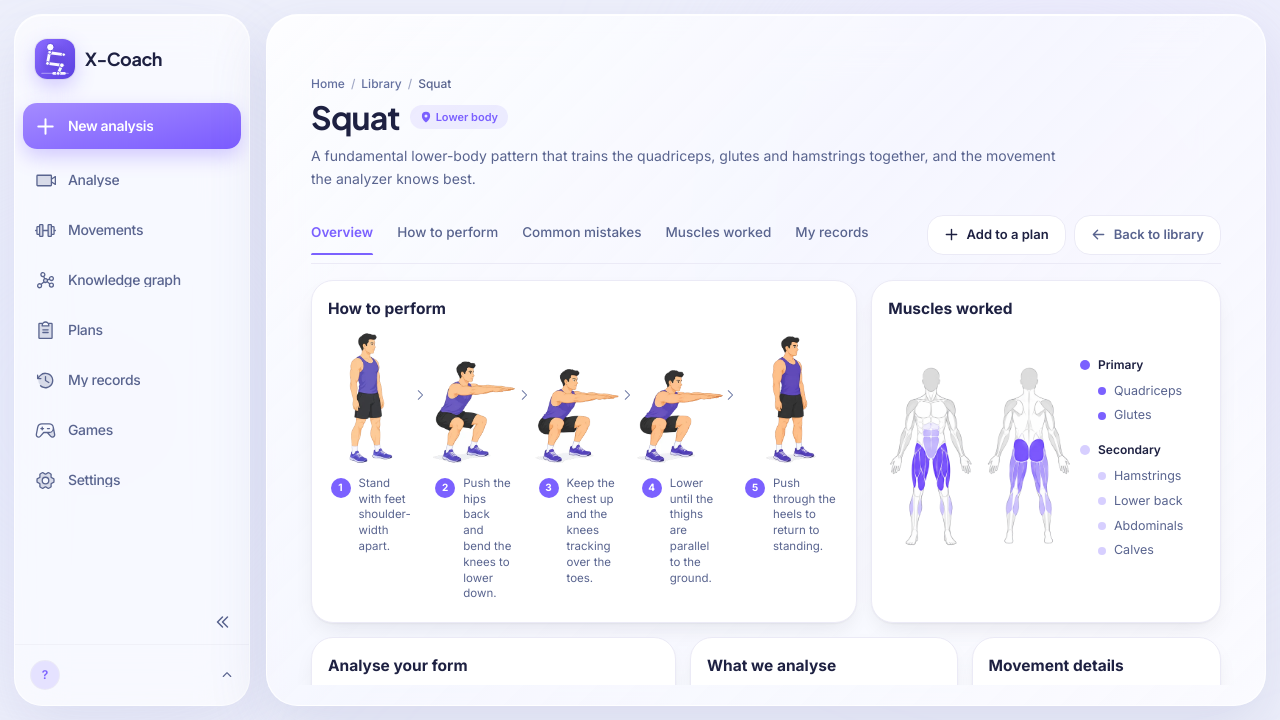
MovementDetail — add to a plan › fetches the plans only once the menu is opened
The image size is (1280, 720).
Step 1. Click the button "Add to a plan" → (996, 234), box [926,214,1066,254]
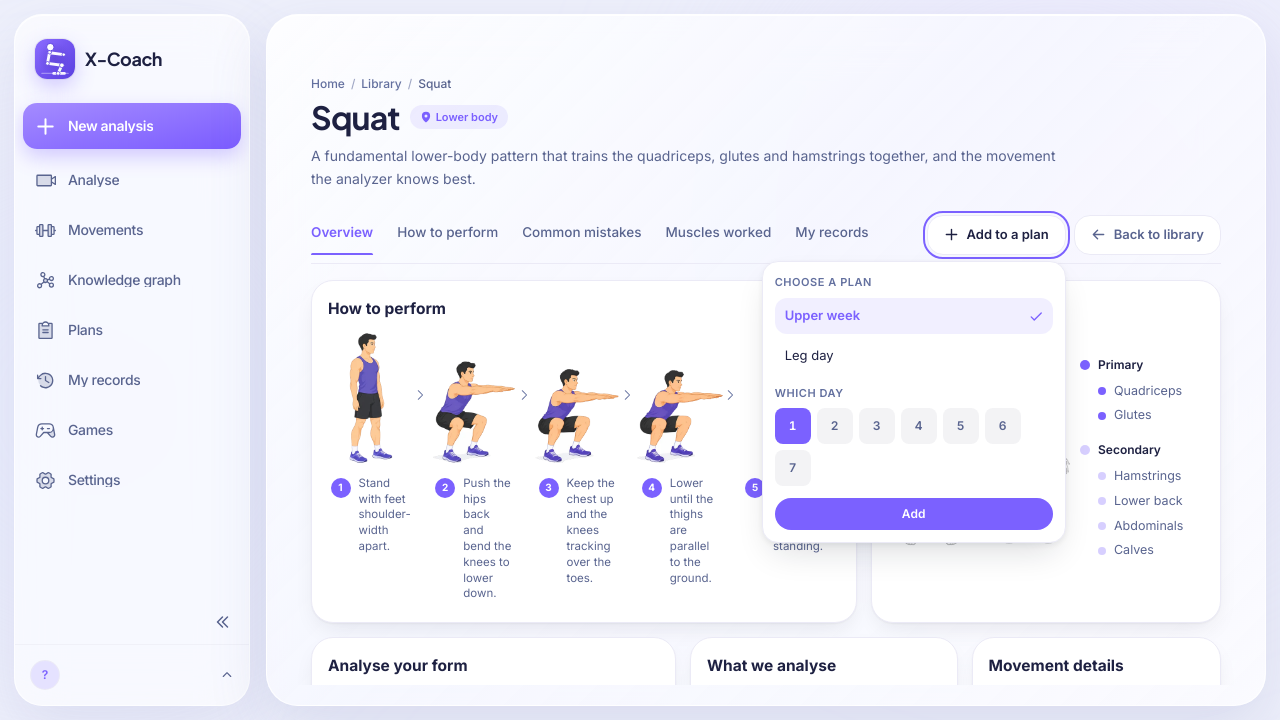
expect the text "Upper week" is shown: met, box [785,306,860,326]
expect the text "Leg day" is shown: met, box [785,346,834,365]
